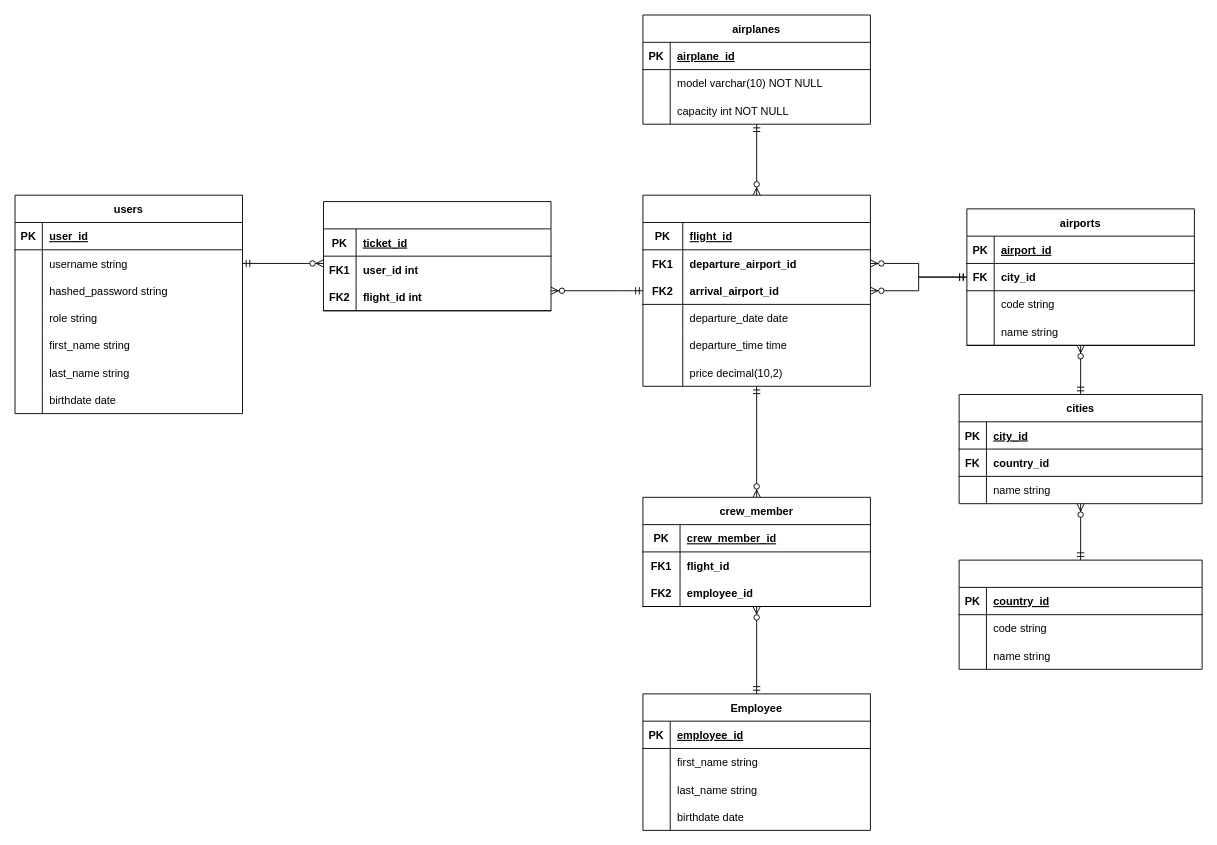
Some shapes in this 1217 by 845 pixel diagram are drawn without their labels. The shapes that lost their labels are listed below. From the top down, each one's box as (x1, y1, x2, y2) in pixels, then its label:
(323, 201, 551, 311): tickets
(642, 194, 870, 386): flights
(958, 559, 1202, 669): countries
